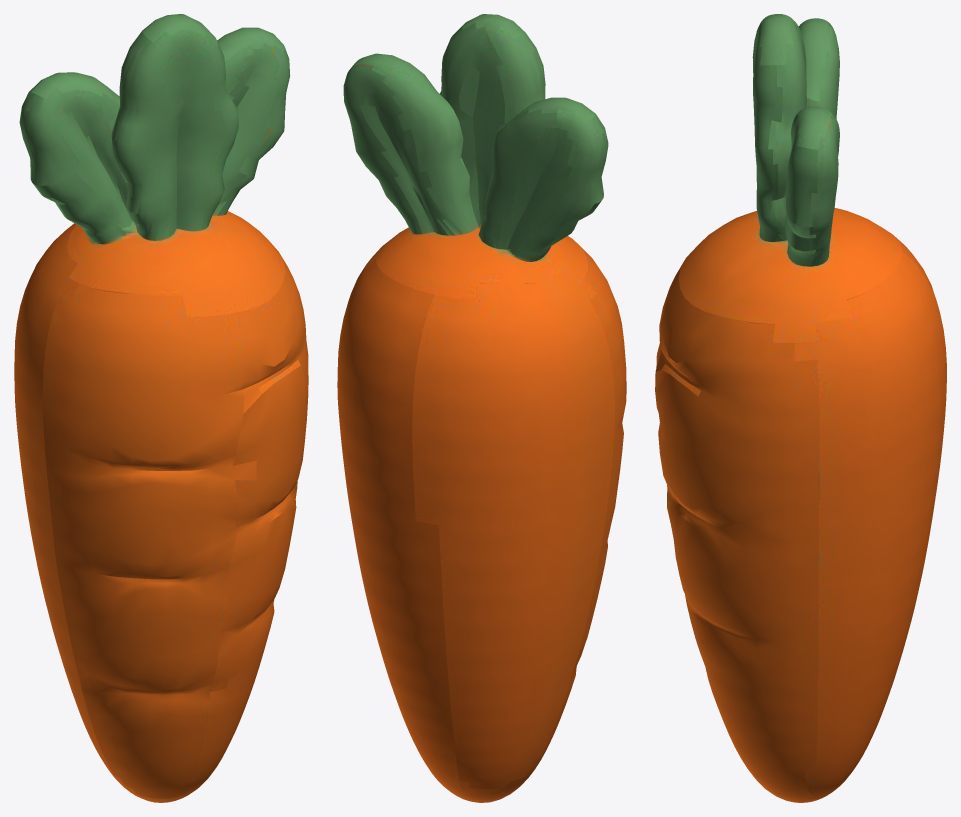
File: carrot_optimized.glb
The picture shows the model from 3 angles, left to right: view 1: azimuth 30°, elevation 25°; view 2: azimuth 150°, elevation 25°; view 3: azimuth 270°, elevation 25°; orthographic projection. The views are drawn at different scales.
Visible parts, largest first — view 1: Mesh0; view 2: Mesh0; view 3: Mesh0.
Part boxes in pixels (x1=…): Mesh0: x1=14, y1=14, x2=308, y2=802; Mesh0: x1=337, y1=14, x2=626, y2=802; Mesh0: x1=655, y1=14, x2=946, y2=802.
Bounding box in the file's own units: 0.6615 × 1.9 × 0.6451.
1 material, 1 textured.
